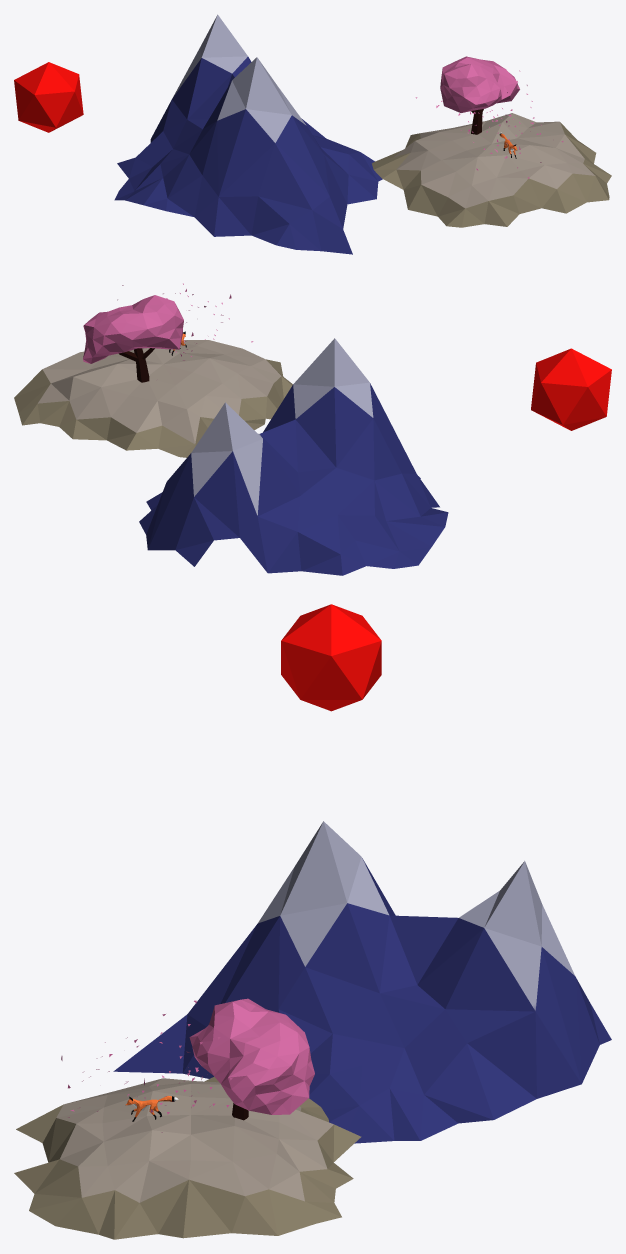
The model's file is Fox.dae.
3 renders of one model, top to bottom at view 1: azimuth 30°, elevation 25°; view 2: azimuth 150°, elevation 25°; view 3: azimuth 270°, elevation 25°, orthographic. The views are drawn at different scales.
Visible parts, largest first — view 1: Plane_001, Plane, Icosphere_001, Icosphere; view 2: Plane_001, Plane, Icosphere_001, Icosphere, Cylinder_001; view 3: Plane_001, Plane, Icosphere, Icosphere_001.
Part boxes in pixels (x1,y1,x2,y2): Plane_001: (114,14,382,254); Plane: (372,113,611,227); Icosphere_001: (14,62,83,132); Icosphere: (415,56,563,178); Plane_001: (139,338,448,575); Plane: (14,340,292,457); Icosphere_001: (531,348,611,430); Icosphere: (83,283,253,363); Cylinder_001: (119,348,154,382); Plane_001: (113,821,611,1143); Plane: (14,1076,361,1239); Icosphere: (61,998,314,1132); Icosphere_001: (281,604,381,711).
Size of the model in its own units: 92.77 by 60.17 by 32.92.
6 materials, 3 textured.
